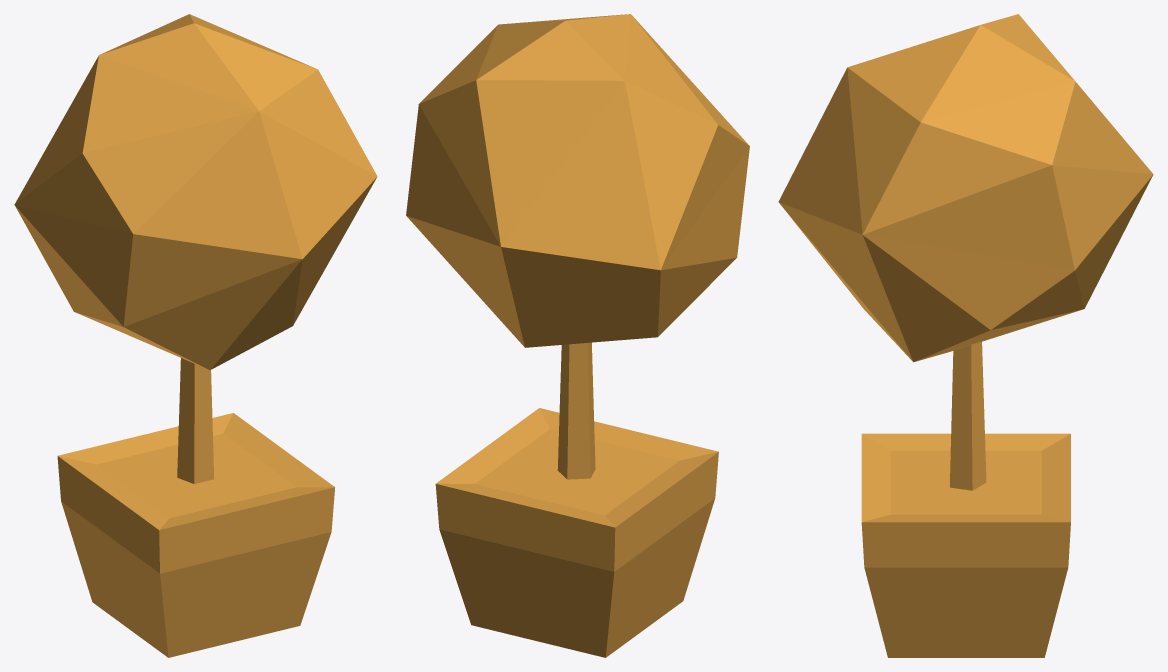
The model's file is tree-pot.glb.
3 renders of one model, left to right at view 1: azimuth 30°, elevation 25°; view 2: azimuth 150°, elevation 25°; view 3: azimuth 270°, elevation 25°, orthographic. The views are drawn at different scales.
Parts seen in each view (by area): view 1: tree-pot; view 2: tree-pot; view 3: tree-pot.
Part boxes in pixels (x1=…): tree-pot: x1=14, y1=14, x2=377, y2=657; tree-pot: x1=406, y1=14, x2=749, y2=657; tree-pot: x1=778, y1=14, x2=1153, y2=657.
Size of the model in its own units: 0.5975 by 1.27 by 0.7171.
